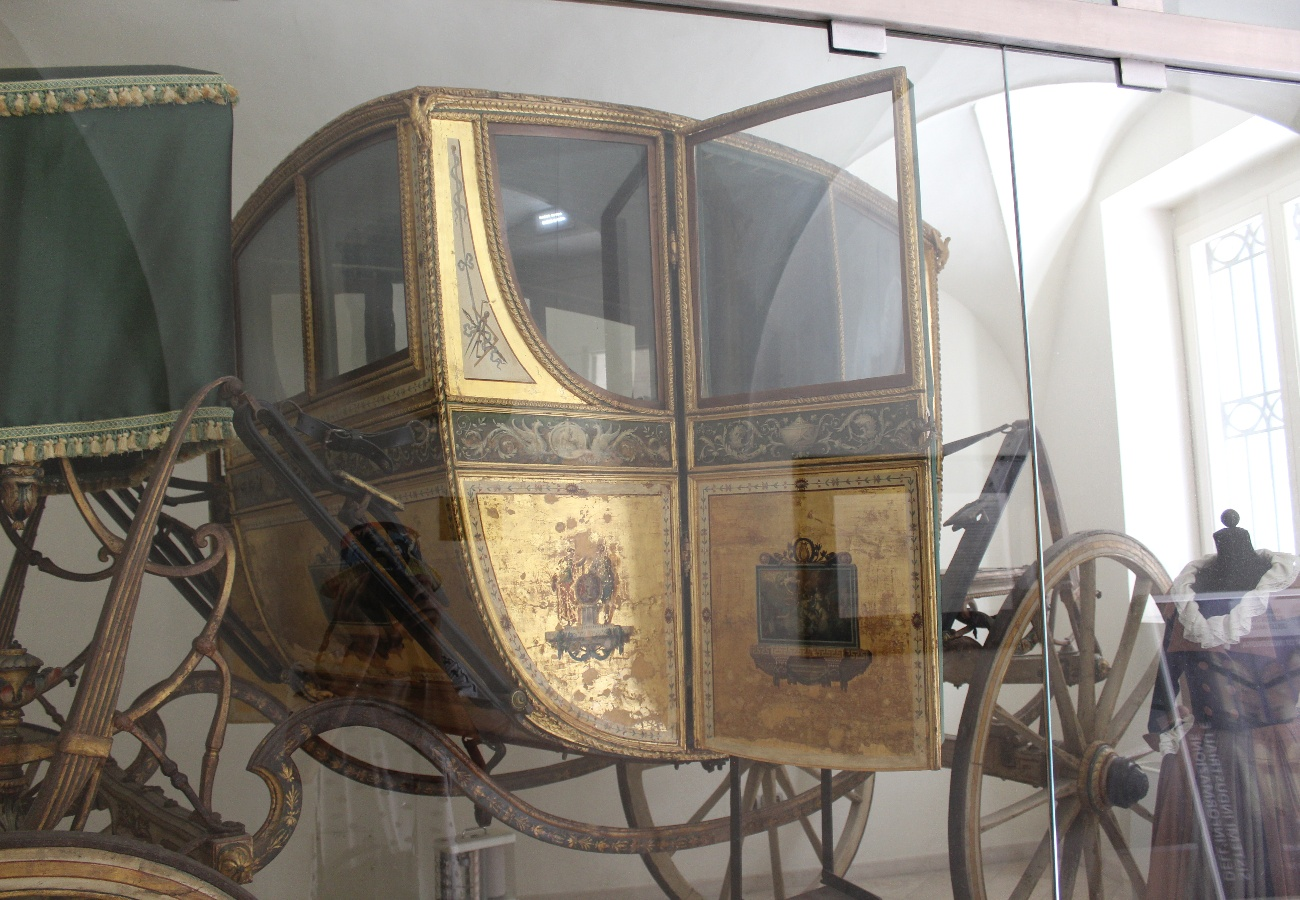Berlina Mosca: (2, 64, 1214, 900)
